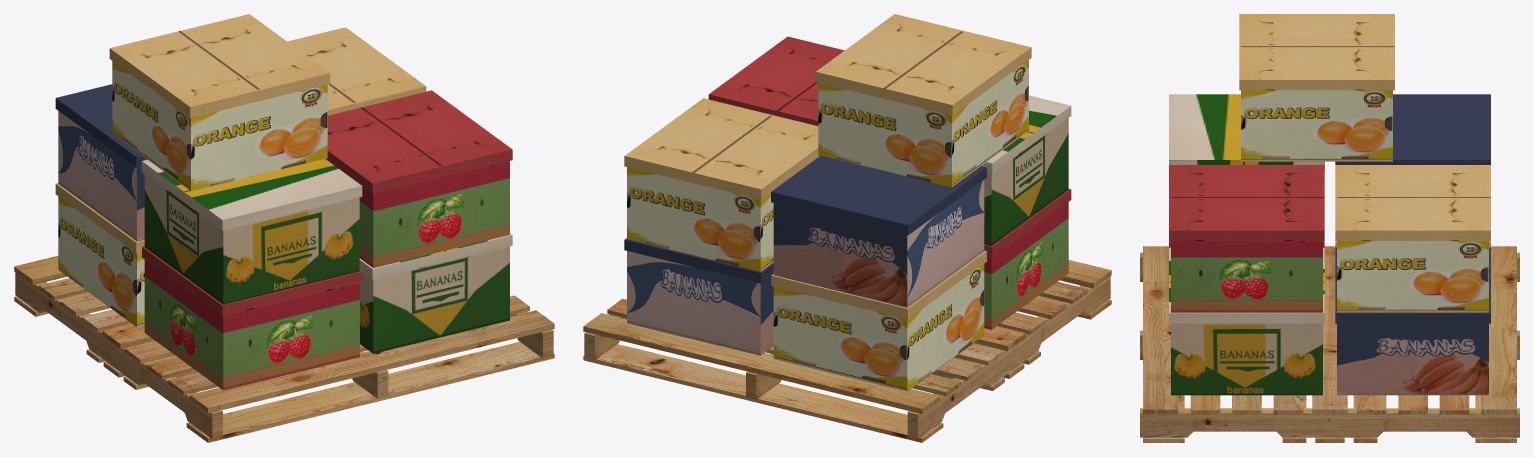
Rendered from Cardboard_boxGroup01b.glb.
The picture shows the model from 3 angles, left to right: view 1: azimuth 30°, elevation 25°; view 2: azimuth 150°, elevation 25°; view 3: azimuth 270°, elevation 25°; orthographic projection. The views are drawn at different scales.
Parts seen in each view (by area): view 1: Cardboard_boxGroup01b2, Cardboard_boxGroup01b1, Cardboard_boxG01; view 2: Cardboard_boxGroup01b2, Cardboard_boxGroup01b1, Cardboard_boxG01; view 3: Cardboard_boxGroup01b2, Cardboard_boxGroup01b1, Cardboard_boxG01.
Boxes of the visible parts, bbox=[...] form: Cardboard_boxGroup01b2: bbox=[55, 14, 512, 353]; Cardboard_boxGroup01b1: bbox=[55, 84, 512, 390]; Cardboard_boxG01: bbox=[14, 255, 554, 442]; Cardboard_boxGroup01b2: bbox=[624, 14, 1071, 391]; Cardboard_boxGroup01b1: bbox=[624, 36, 1071, 355]; Cardboard_boxG01: bbox=[583, 260, 1111, 442]; Cardboard_boxGroup01b2: bbox=[1169, 14, 1490, 395]; Cardboard_boxGroup01b1: bbox=[1169, 94, 1490, 395]; Cardboard_boxG01: bbox=[1140, 246, 1519, 442].
Bounding box in the file's own units: 2.16 × 1.73 × 2.12.
3 materials, 3 textured.
